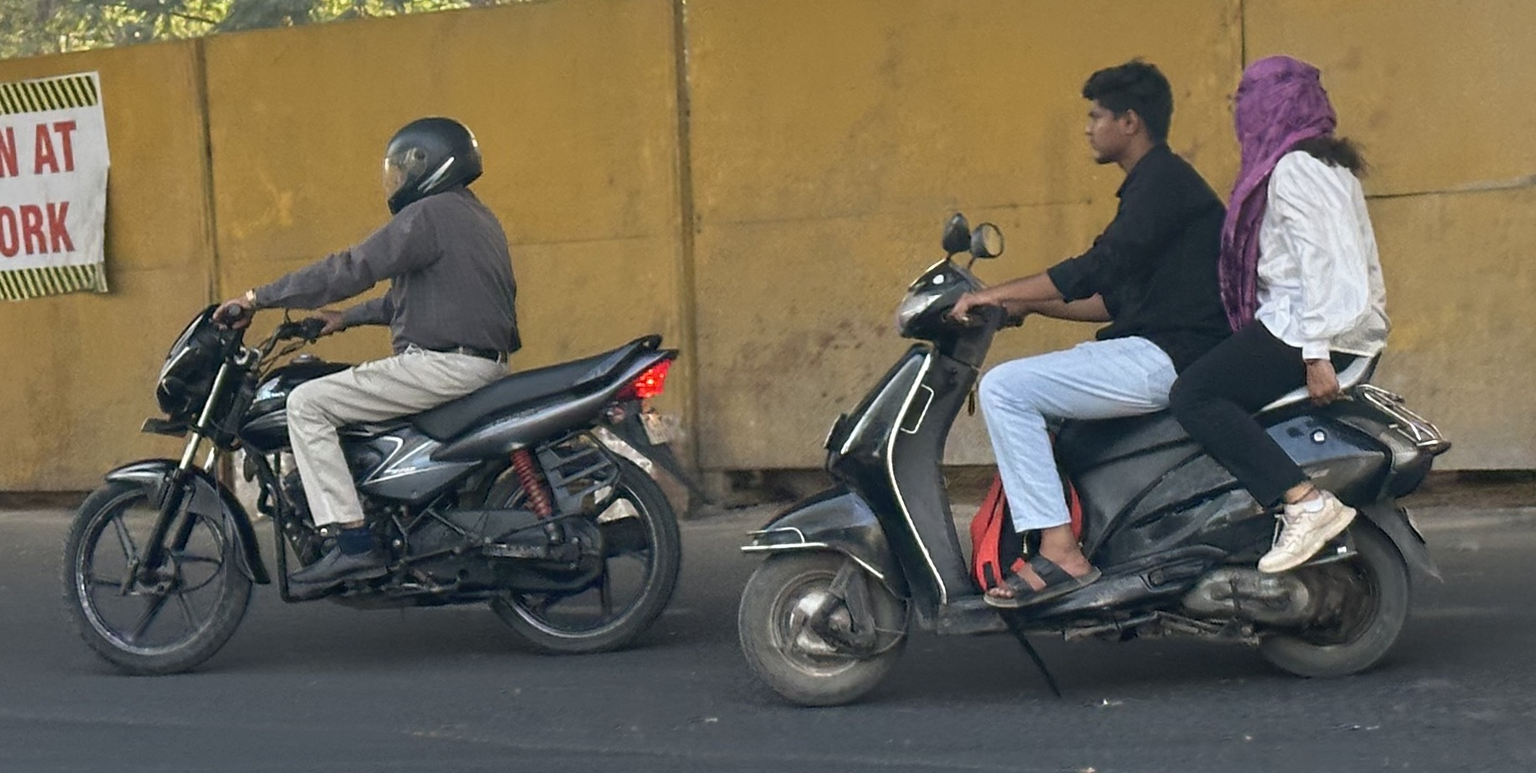BikeWithRider: (710, 44, 1470, 723), (44, 101, 697, 684)
Helmet: (367, 108, 493, 212)
NoHelmet: (1072, 54, 1182, 172), (1221, 49, 1345, 152)
